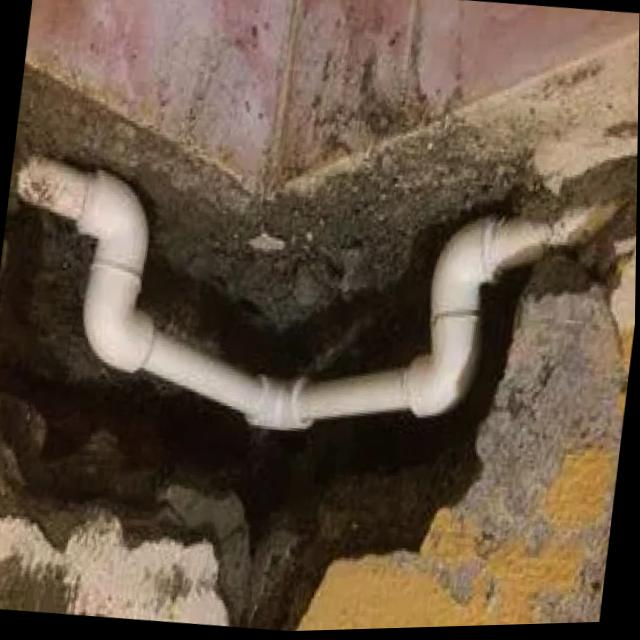leak: (269, 302, 381, 389)
